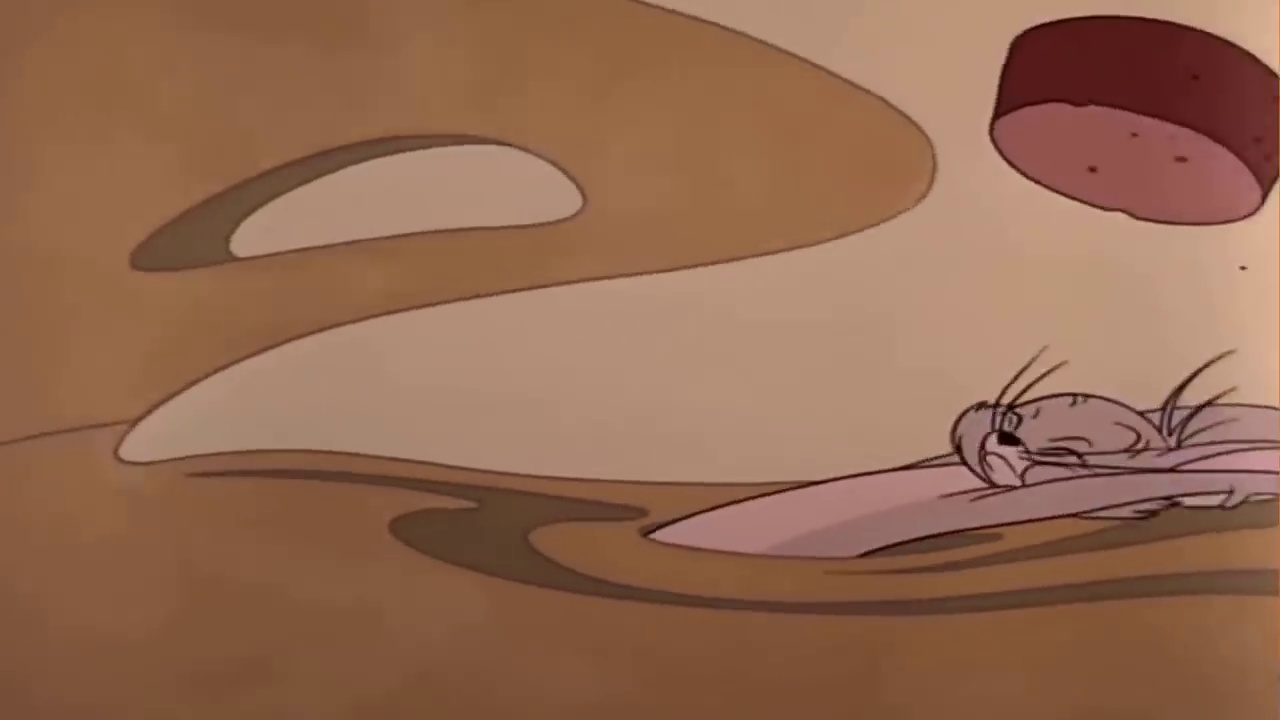face: (979, 397, 1146, 486)
